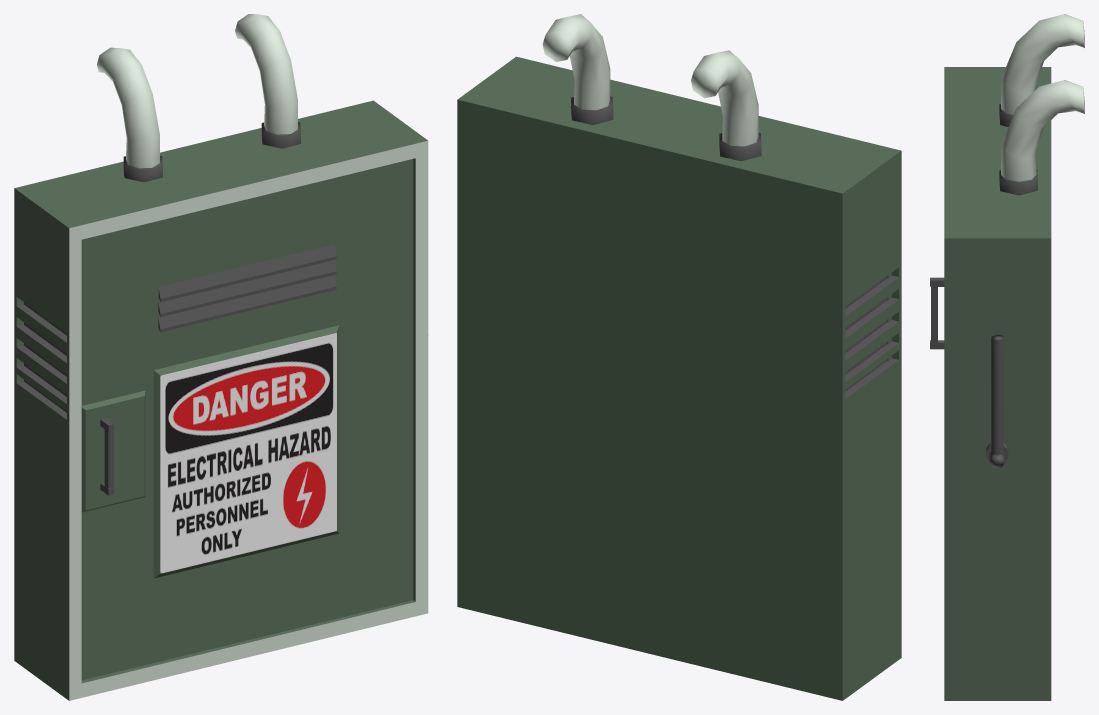
File: Fuse_Box.fbx
3 renders of one model, left to right at view 1: azimuth 30°, elevation 25°; view 2: azimuth 150°, elevation 25°; view 3: azimuth 270°, elevation 25°, orthographic. The views are drawn at different scales.
Visible parts, largest first — view 1: FuseBox_Door, Fuse_Box1; view 2: Fuse_Box1; view 3: Fuse_Box1, Handle1, FuseBox_Door.
Part boxes in pixels (x1=…): FuseBox_Door: x1=81, y1=159, x2=413, y2=680; Fuse_Box1: x1=14, y1=14, x2=428, y2=700; Fuse_Box1: x1=457, y1=14, x2=901, y2=700; Fuse_Box1: x1=944, y1=14, x2=1084, y2=700; Handle1: x1=989, y1=334, x2=1005, y2=468; FuseBox_Door: x1=930, y1=277, x2=944, y2=349.
Size of the model in its own units: 1.41 by 2.04 by 0.5044.
Materials: 11 (2 with a texture image).
